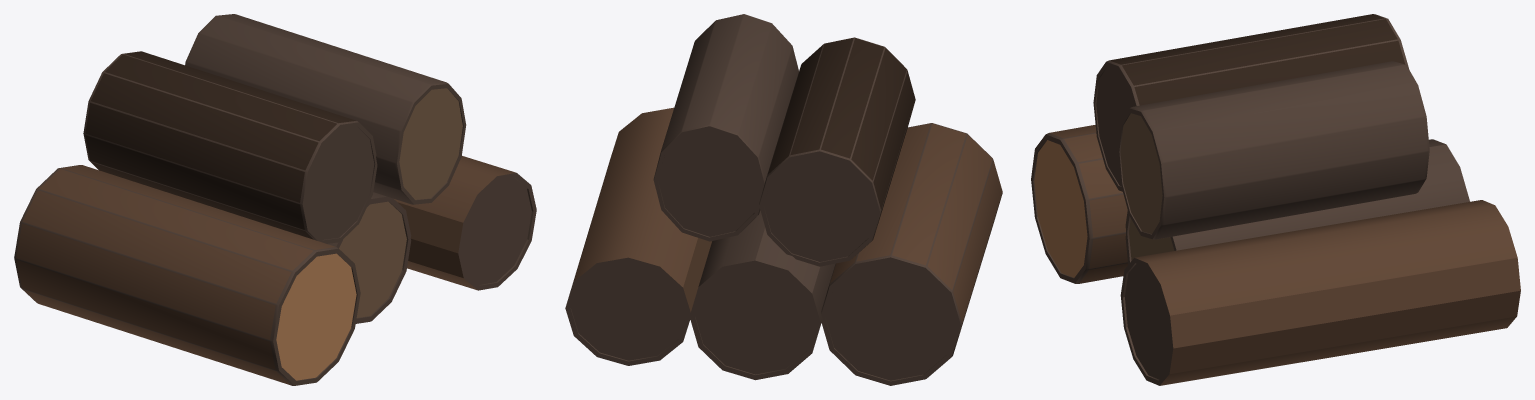
Rendered from Ciocchi.fbx.
3 renders of one model, left to right at view 1: azimuth 30°, elevation 25°; view 2: azimuth 150°, elevation 25°; view 3: azimuth 270°, elevation 25°, orthographic. The views are drawn at different scales.
Visible parts, largest first — view 1: Wood pile; view 2: Wood pile; view 3: Wood pile.
Part boxes in pixels (x1,y1,x2,y2): Wood pile: [14, 14, 536, 385]; Wood pile: [565, 14, 1002, 385]; Wood pile: [1031, 14, 1520, 385].
Size of the model in its own units: 245 by 124 by 223.
